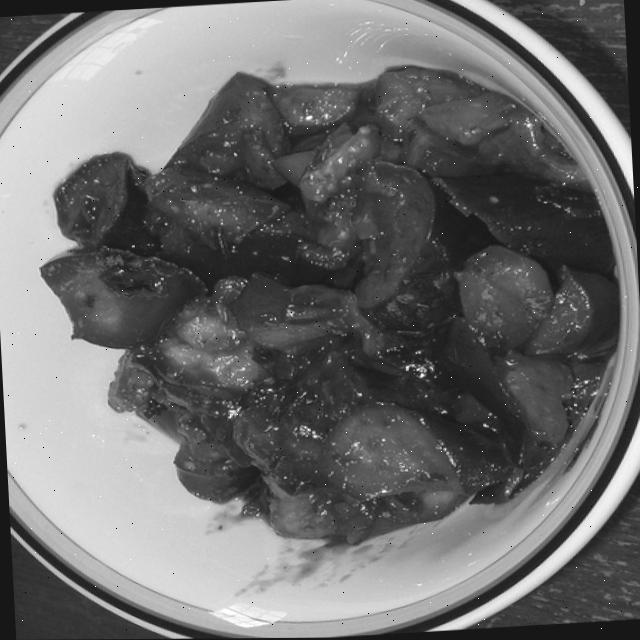鸡蛋料理: (14, 0, 608, 622)
